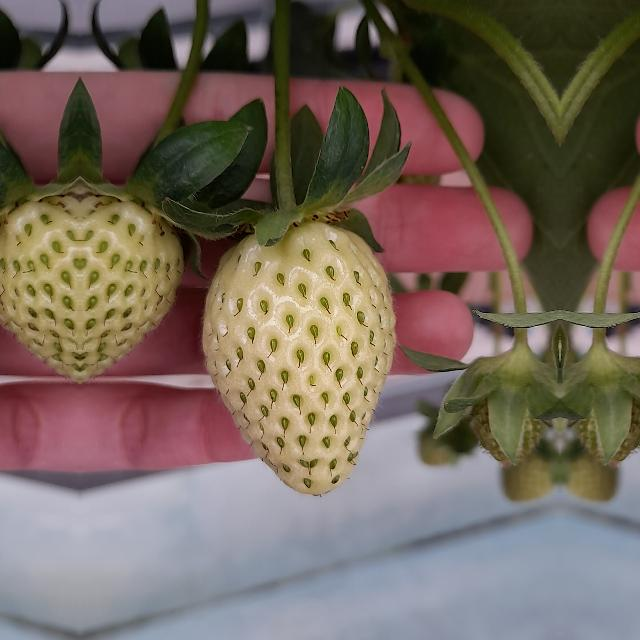Health_25: (202, 218, 396, 496)
